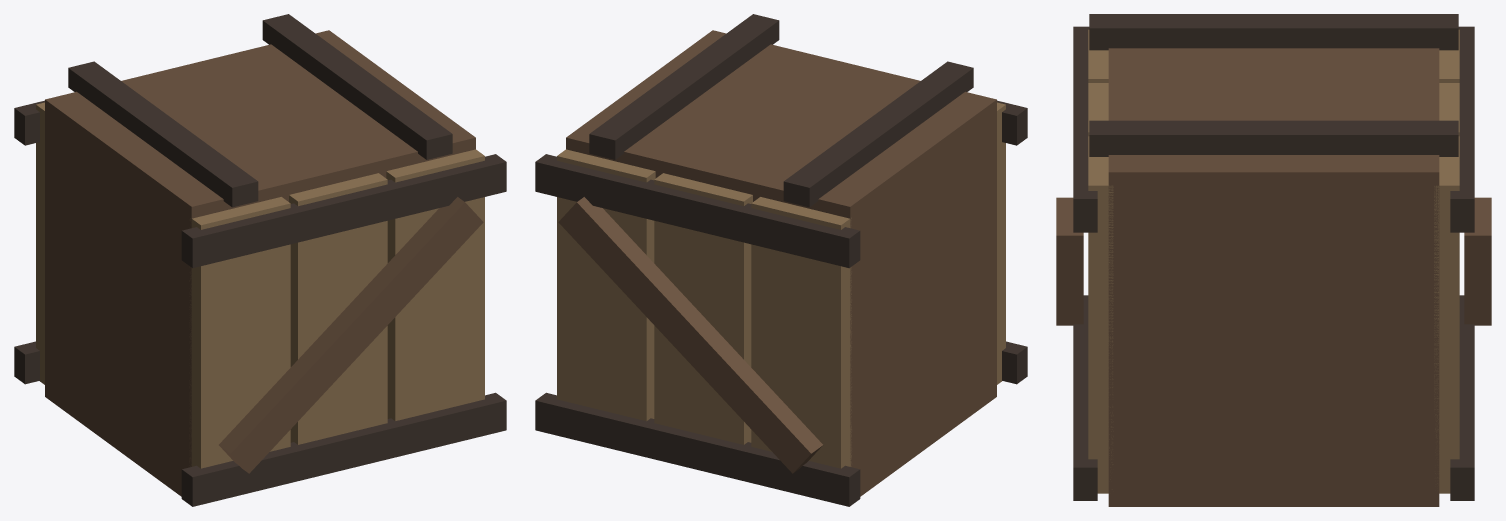
File: crate.glb
3 renders of one model, left to right at view 1: azimuth 30°, elevation 25°; view 2: azimuth 150°, elevation 25°; view 3: azimuth 270°, elevation 25°, orthographic. The views are drawn at different scales.
Parts seen in each view (by area): view 1: cargo core, face plank, face plank.002, face plank.001, diagonal brace, cargo binding.001, cargo binding, top binding, top binding.001, face plank.003, cargo binding.003, cargo binding.002; view 2: cargo core, face plank.003, face plank.005, face plank.004, diagonal brace.001, cargo binding.003, cargo binding.002, top binding, top binding.001, face plank, cargo binding.001, cargo binding; view 3: cargo core, top binding, top binding.001, face plank.005, face plank.002, cargo binding.001, cargo binding.003, cargo binding, cargo binding.002, diagonal brace, diagonal brace.001, face plank.001 (+3 smaller).
Boxes of the visible parts, x1,y1,x2,y2 form: cargo core: [45, 30, 475, 496]; face plank: [189, 197, 290, 468]; face plank.002: [386, 149, 484, 421]; face plank.001: [289, 173, 387, 444]; diagonal brace: [219, 197, 483, 473]; cargo binding.001: [181, 154, 506, 268]; cargo binding: [181, 392, 506, 506]; top binding: [68, 61, 258, 207]; top binding.001: [262, 14, 452, 159]; face plank.003: [36, 102, 44, 384]; cargo binding.003: [14, 100, 44, 145]; cargo binding.002: [14, 341, 39, 384]; cargo core: [566, 30, 996, 496]; face plank.003: [751, 197, 851, 468]; face plank.005: [557, 149, 655, 421]; face plank.004: [654, 173, 752, 444]; diagonal brace.001: [558, 197, 822, 473]; cargo binding.003: [535, 154, 860, 268]; cargo binding.002: [535, 392, 860, 506]; top binding: [783, 61, 973, 207]; top binding.001: [589, 14, 779, 159]; face plank: [997, 102, 1005, 384]; cargo binding.001: [997, 100, 1027, 145]; cargo binding: [1002, 341, 1027, 384]; cargo core: [1108, 48, 1439, 506]; top binding: [1089, 14, 1458, 50]; top binding.001: [1089, 120, 1458, 156]; face plank.005: [1434, 136, 1459, 493]; face plank.002: [1088, 136, 1113, 493]; cargo binding.001: [1073, 26, 1097, 232]; cargo binding.003: [1450, 26, 1474, 232]; cargo binding: [1073, 295, 1097, 500]; cargo binding.002: [1450, 295, 1474, 500]; diagonal brace: [1056, 197, 1083, 325]; diagonal brace.001: [1464, 197, 1491, 325]; face plank.001: [1088, 83, 1108, 136].
Size of the model in its own units: 0.42 by 0.4025 by 0.448.
